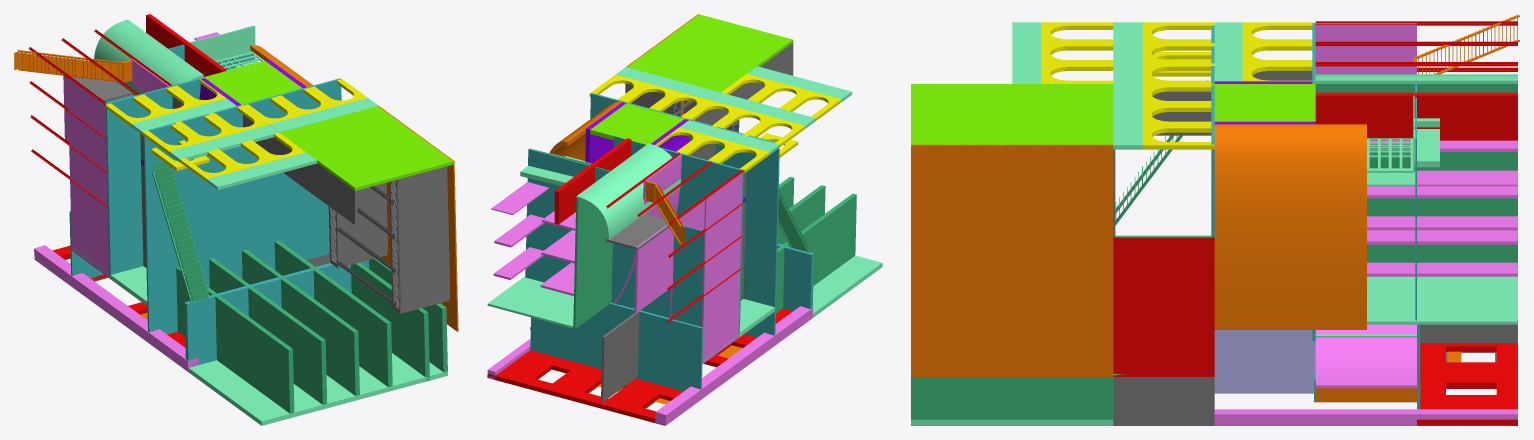
File: MiddleHotel.fbx
The picture shows the model from 3 angles, left to right: view 1: azimuth 30°, elevation 25°; view 2: azimuth 150°, elevation 25°; view 3: azimuth 270°, elevation 25°; orthographic projection. The views are drawn at different scales.
Visible parts, largest first — view 1: 物件_128, 物件_481, 物件_129, 物件_273, 物件_522, 物件_482, 物件_521, 物件_483, 物件_350, 物件_342, 物件_259, 物件_141 (+41 smaller); view 2: 物件_337, 物件_142, 物件_481, 物件_273, 物件_128, 物件_232, 物件_262, 物件_141, 物件_522, 物件_259, 物件_263, 物件_129 (+43 smaller); view 3: 物件_341, 物件_255, 物件_221, 物件_481, 物件_344, 物件_274, 物件_127, 物件_232, 物件_322, 物件_262, 物件_313, 物件_331 (+40 smaller).
Part boxes in pixels (x1,y1,x2,y2): 物件_128: (143, 78, 341, 302); 物件_481: (279, 106, 454, 190); 物件_129: (105, 77, 204, 274); 物件_273: (67, 78, 109, 273); 物件_522: (176, 267, 294, 413); 物件_482: (274, 240, 392, 387); 物件_521: (209, 258, 327, 404); 物件_483: (242, 249, 359, 395); 物件_350: (184, 260, 369, 367); 物件_342: (351, 262, 429, 381); 物件_259: (34, 245, 198, 371); 物件_141: (94, 19, 203, 95); 物件_337: (530, 303, 703, 391); 物件_142: (525, 149, 704, 326); 物件_481: (627, 14, 793, 92); 物件_273: (702, 172, 742, 359); 物件_128: (590, 93, 779, 306); 物件_232: (487, 350, 683, 425); 物件_262: (573, 198, 612, 329); 物件_141: (576, 143, 681, 239); 物件_522: (743, 193, 856, 334); 物件_259: (655, 306, 813, 425); 物件_263: (601, 311, 639, 402); 物件_129: (614, 136, 743, 333); 物件_341: (911, 144, 1113, 376); 物件_255: (1214, 124, 1366, 329); 物件_221: (1113, 237, 1214, 376); 物件_481: (911, 84, 1113, 145); 物件_344: (911, 377, 1113, 425); 物件_274: (1315, 92, 1517, 140); 物件_127: (1315, 66, 1416, 388); 物件_232: (1417, 343, 1517, 425); 物件_322: (1214, 330, 1315, 393); 物件_262: (1417, 84, 1517, 262); 物件_313: (1367, 287, 1517, 324); 物件_331: (1113, 377, 1214, 425).
Size of the model in its own units: 4.97 by 4.76 by 9.02.
